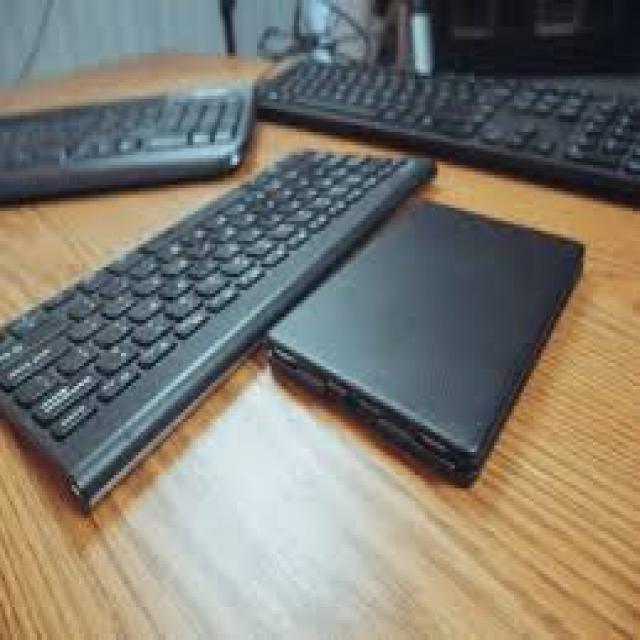others: (2, 3, 640, 554)
